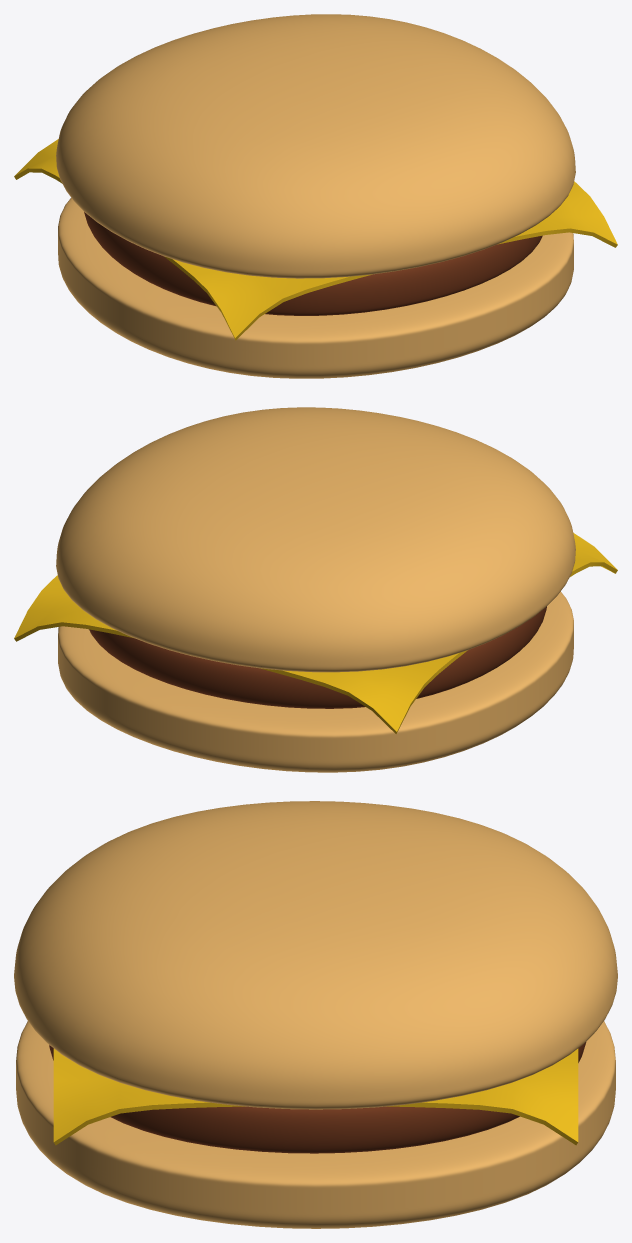
The model's file is hamburger.glb.
3 views of the same model, one above another, from view 1: azimuth 30°, elevation 25°; view 2: azimuth 150°, elevation 25°; view 3: azimuth 270°, elevation 25° (orthographic). The views are drawn at different scales.
Parts seen in each view (by area): view 1: Top Bun, Bot Bun, Patty, Cheese; view 2: Top Bun, Bot Bun, Patty, Cheese; view 3: Top Bun, Bot Bun, Patty, Cheese.
Part boxes in pixels (x1,y1,x2,y2): Top Bun: (56,14,575,278); Bot Bun: (58,198,573,378); Patty: (84,212,542,315); Cheese: (14,139,617,340); Top Bun: (56,407,575,672); Bot Bun: (58,591,573,772); Patty: (89,606,546,708); Cheese: (14,533,617,733); Top Bun: (14,801,617,1109); Bot Bun: (16,1021,615,1228); Patty: (49,1042,586,1153); Cheese: (53,1048,578,1145).
Size of the model in its own units: 9.23 by 4.37 by 9.23.
